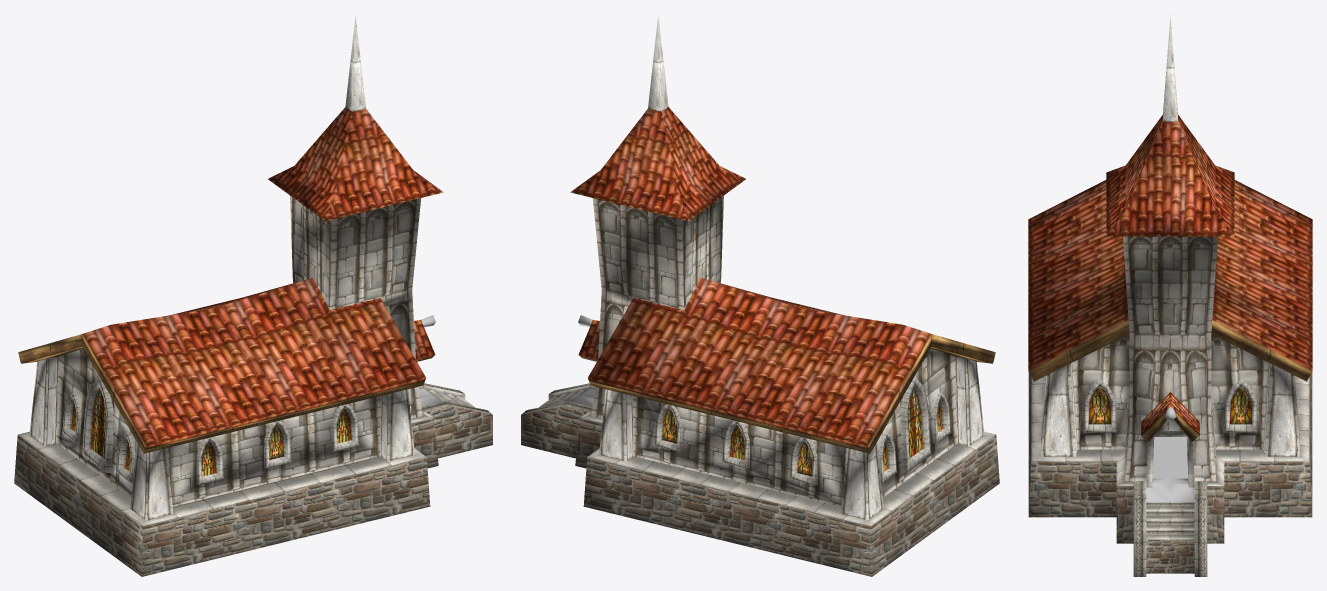
The model's file is chapel.dae.
The picture shows the model from 3 angles, left to right: view 1: azimuth 30°, elevation 25°; view 2: azimuth 150°, elevation 25°; view 3: azimuth 270°, elevation 25°; orthographic projection. The views are drawn at different scales.
Parts seen in each view (by area): view 1: ext010, ext013, ext0110, ext017, ext016, ext018, ext015; view 2: ext010, ext013, ext0110, ext017, ext016, ext018, ext015; view 3: ext010, ext013, ext0110, ext017, ext016, ext018, int010, ext015, ext012.
Part boxes in pixels (x1=…): ext010: x1=82, y1=107, x2=443, y2=445; ext013: x1=56, y1=195, x2=422, y2=506; ext0110: x1=14, y1=406, x2=492, y2=576; ext017: x1=18, y1=376, x2=492, y2=525; ext016: x1=29, y1=15, x2=414, y2=520; ext018: x1=18, y1=334, x2=434, y2=453; ext015: x1=71, y1=390, x2=351, y2=476; ext010: x1=570, y1=107, x2=931, y2=445; ext013: x1=591, y1=195, x2=957, y2=506; ext0110: x1=521, y1=406, x2=999, y2=576; ext017: x1=521, y1=376, x2=995, y2=525; ext016: x1=599, y1=15, x2=984, y2=520; ext018: x1=579, y1=334, x2=995, y2=453; ext015: x1=662, y1=390, x2=942, y2=476; ext010: x1=1028, y1=115, x2=1312, y2=434; ext013: x1=1072, y1=236, x2=1268, y2=481; ext0110: x1=1028, y1=372, x2=1312, y2=573; ext017: x1=1031, y1=376, x2=1309, y2=576; ext016: x1=1041, y1=14, x2=1299, y2=456; ext018: x1=1028, y1=320, x2=1312, y2=441; int010: x1=1152, y1=440, x2=1188, y2=482; ext015: x1=1088, y1=387, x2=1252, y2=424; ext012: x1=1146, y1=483, x2=1194, y2=502.
Bounding box in the file's own units: 42.3 × 23.59 × 45.52.
